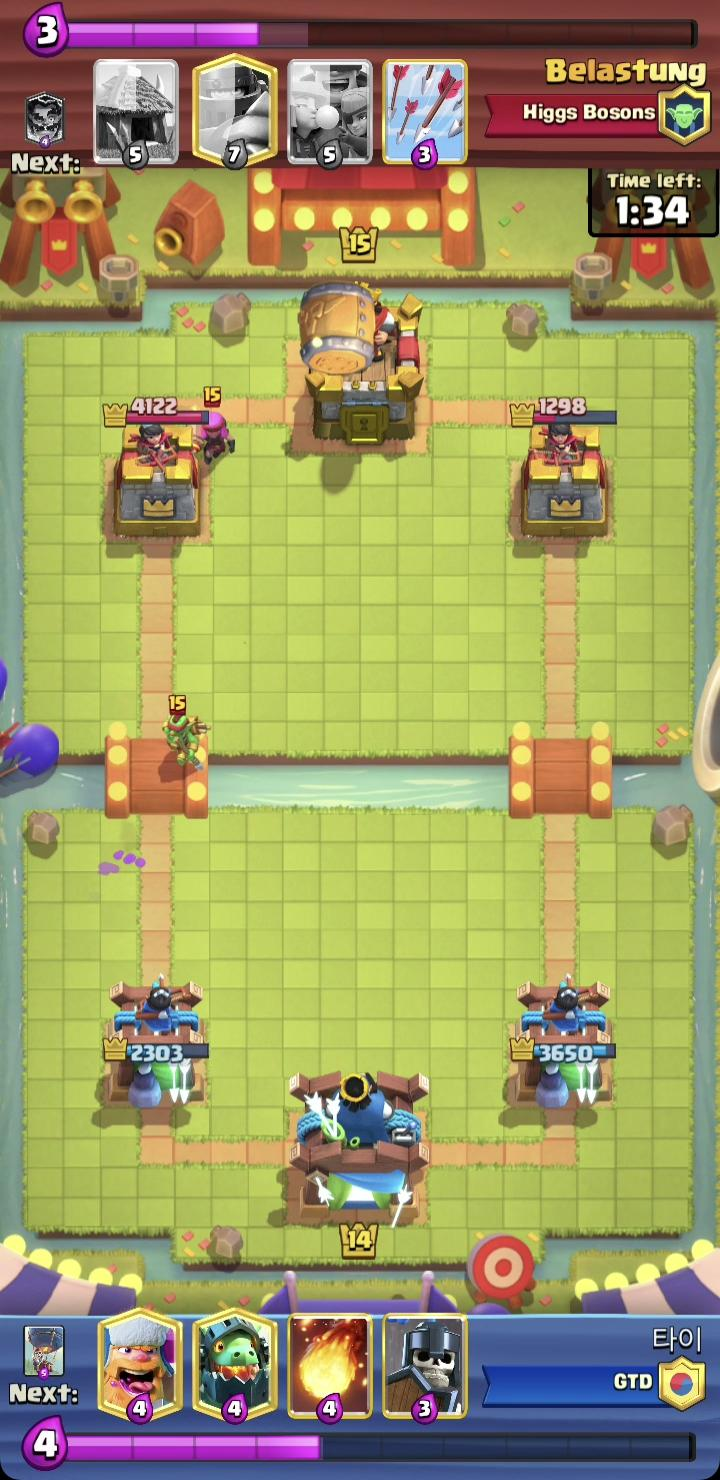enemy_firecracker: (186, 386, 234, 467)
enemy_goblinbarrel: (295, 279, 377, 377)
enemy_spear_goblin: (162, 693, 211, 774)
